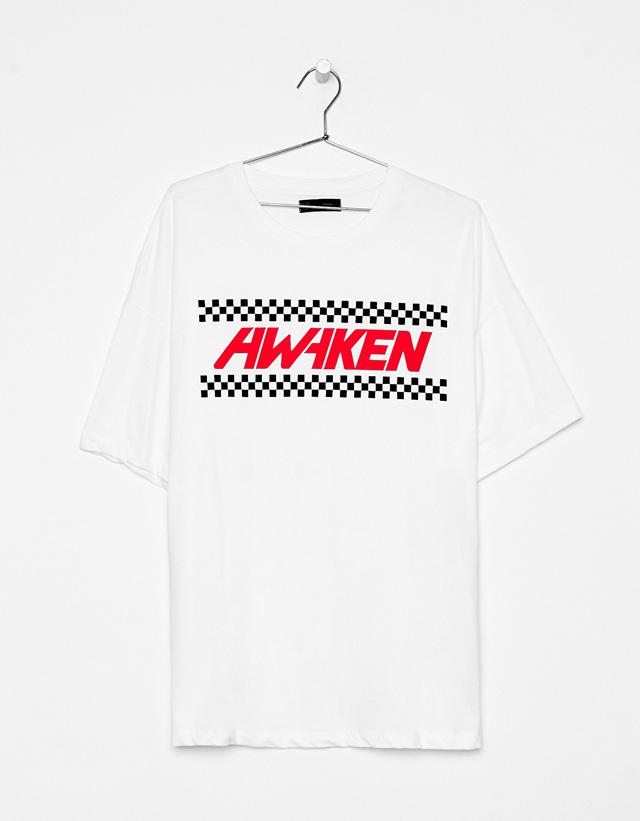teeshirt: (88, 162, 598, 771)
